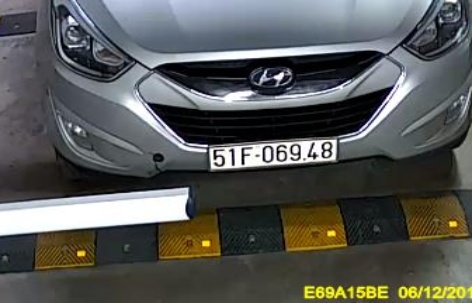plate: (203, 129, 343, 180)
